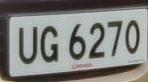0: (123, 15, 143, 59)
2: (86, 16, 108, 65)
6: (67, 18, 88, 66)
7: (106, 15, 125, 60)
G: (38, 21, 61, 68)
U: (17, 22, 39, 70)
